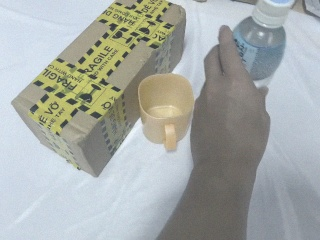bottle: (231, 1, 296, 82)
box: (12, 1, 188, 179)
cup: (137, 73, 194, 152)
